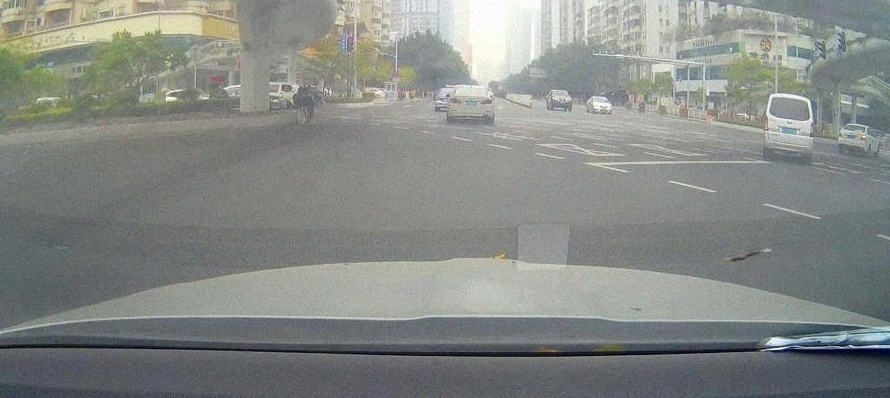L_light: (449, 98, 462, 103), (764, 115, 768, 131), (838, 132, 843, 137)
R_light: (809, 122, 814, 137), (480, 98, 492, 104), (860, 135, 866, 140)
T_light: (787, 98, 794, 101), (467, 88, 476, 90), (854, 126, 859, 127)
day-no: (763, 93, 814, 164), (447, 85, 494, 124)
day-right: (838, 124, 866, 157)
